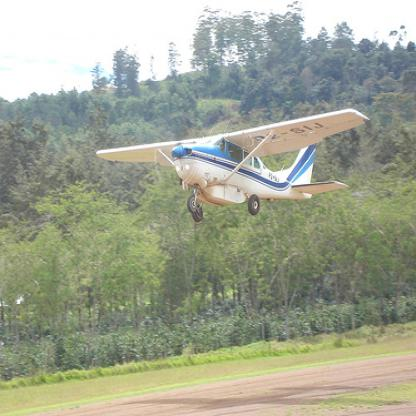aeroplane: (95, 105, 370, 223)
